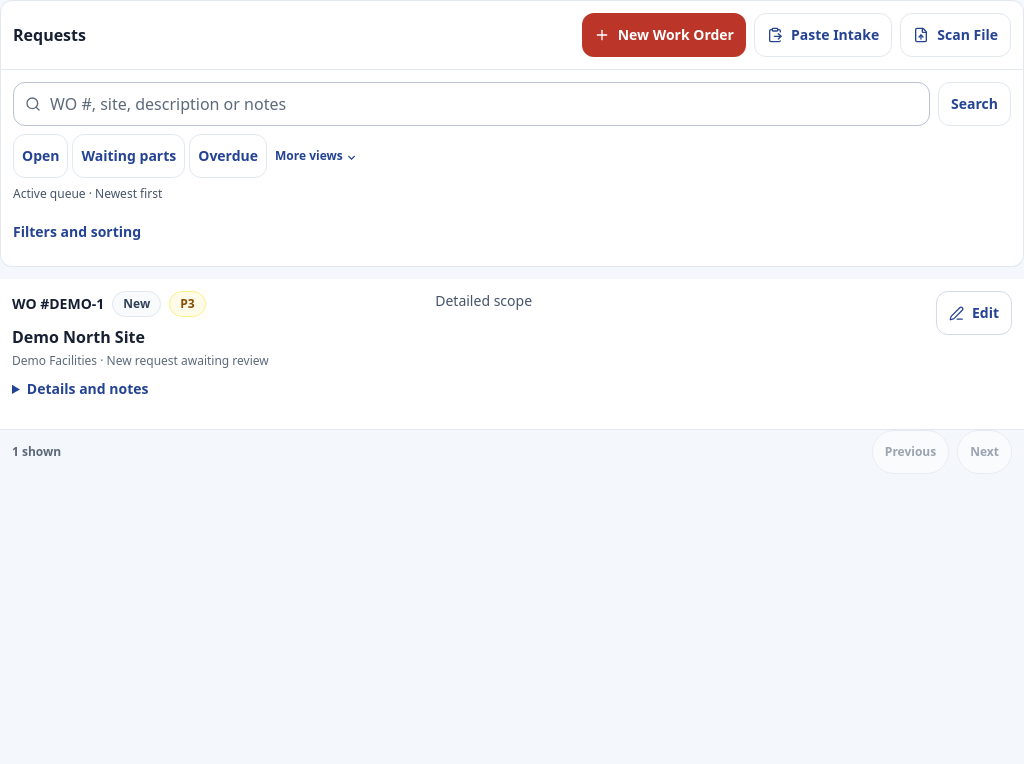
retains a distinct request title in full details
Click the heading "Details and notes": (88, 388) [27, 379, 148, 398]
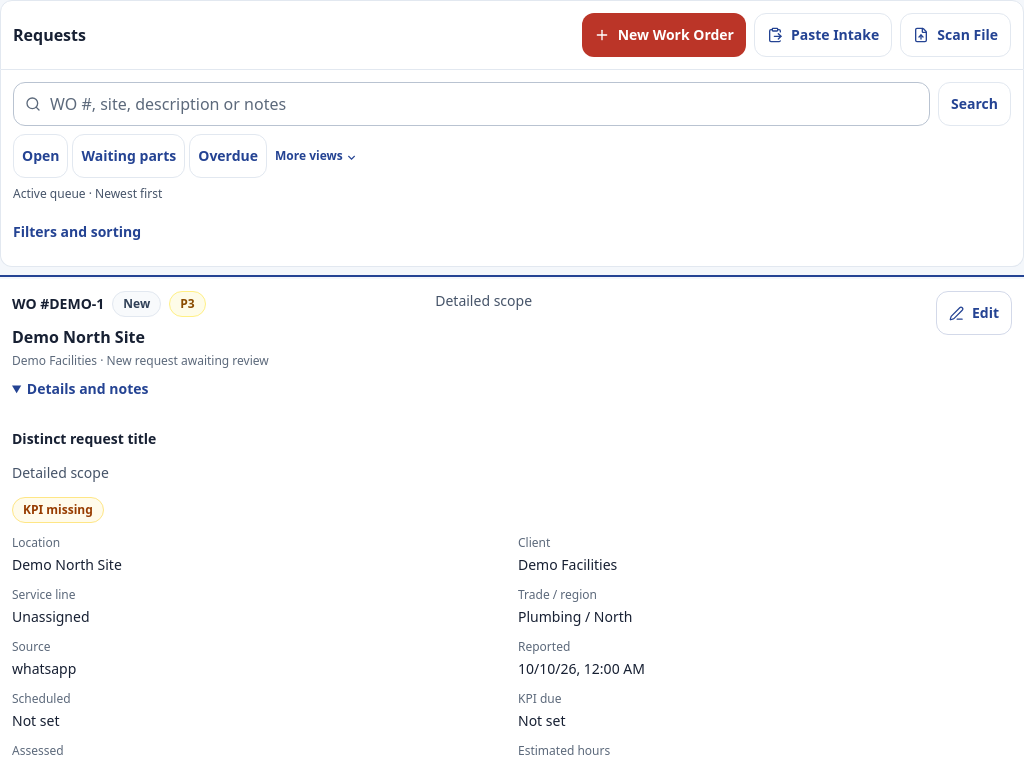
Check: the text "Distinct request title" is shown, box [12, 429, 156, 448]
